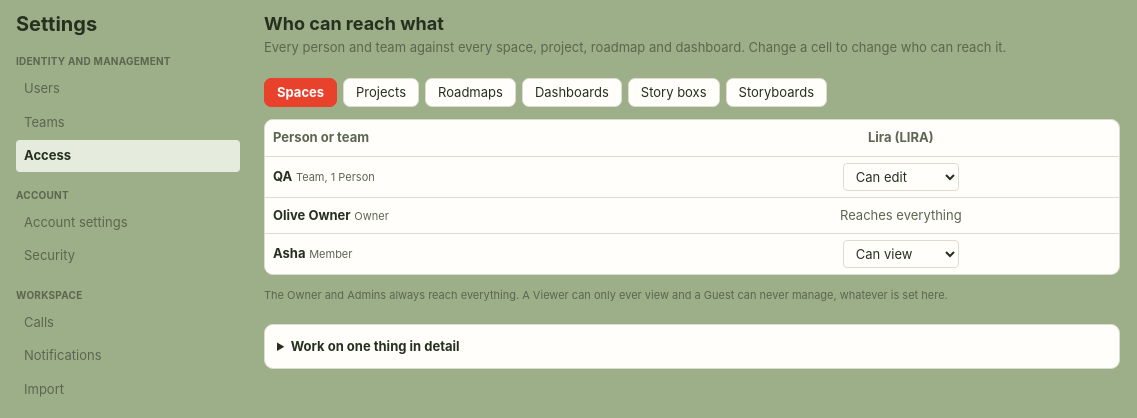
Test: the Access matrix › shows the server refusal when a change is not allowed
Select "Can edit" in the dropdown named "QA on Lira (LIRA)": [901, 176] box [843,162,959,190]
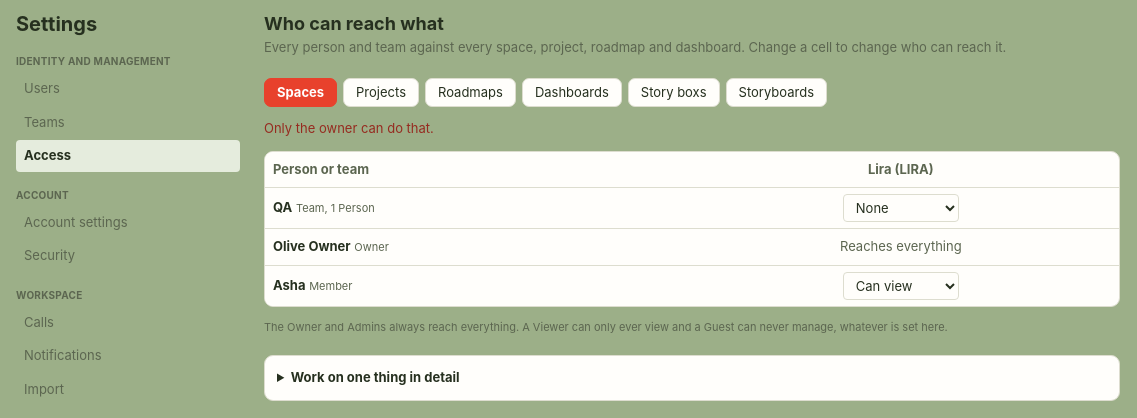
Expected: the message "Only the owner can do that." is shown, [264,120,434,136]
